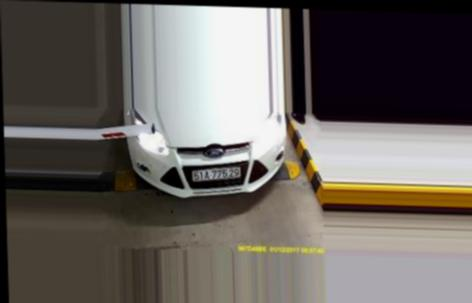License_Plate: (191, 165, 243, 183)
